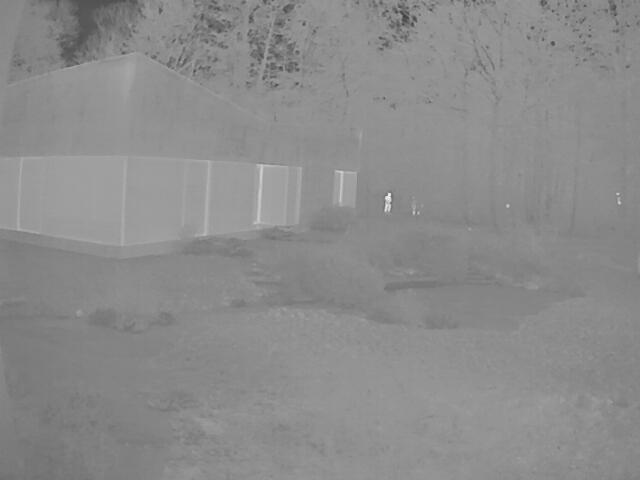person: (383, 191, 392, 213)
